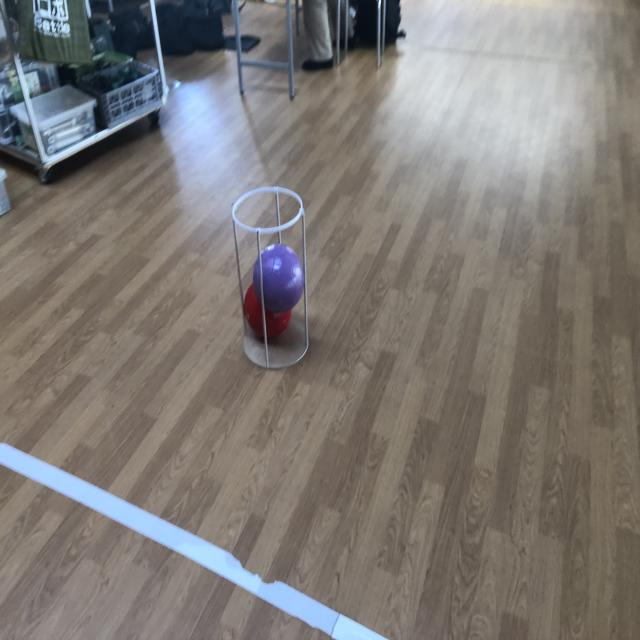purple_ball: (254, 244, 304, 310)
red_ball: (243, 281, 291, 340)
